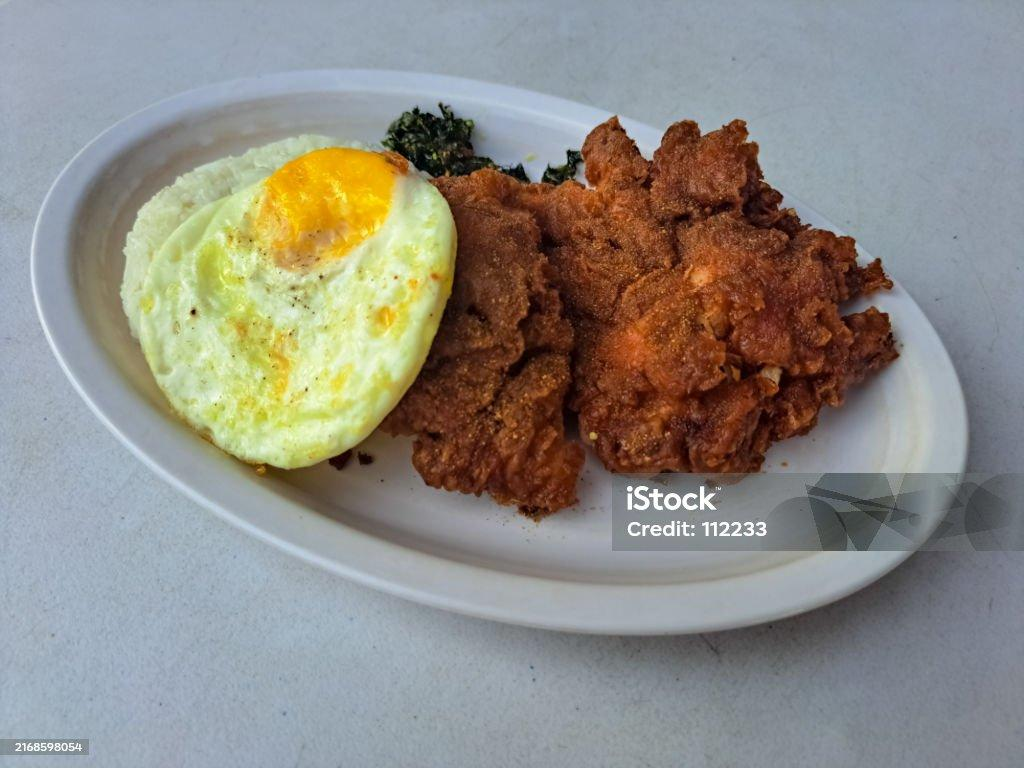daging: (471, 195, 764, 462)
telur: (196, 153, 383, 426)
